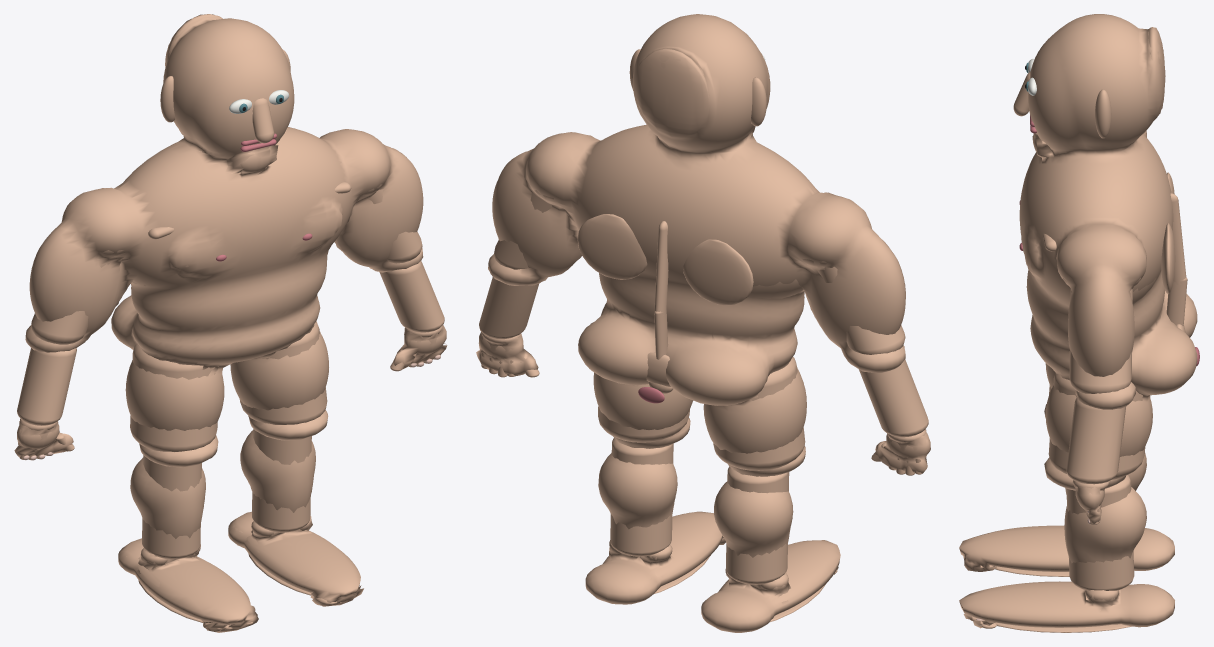
The model's file is body-baby-weiblich-v2.glb.
3 views of the same model, side by side, from view 1: azimuth 30°, elevation 25°; view 2: azimuth 150°, elevation 25°; view 3: azimuth 270°, elevation 25° (orthographic). The views are drawn at different scales.
Parts seen in each view (by area): view 1: zone__visual-surface-body-baby-weiblich, zone__surface-forearm-left, zone__surface-thigh-left, zone__surface-forearm-right, zone__surface-lower-leg-right, zone__surface-lower-leg-left, zone__surface-thigh-right, zone__surface-upper-arm-left, zone__surface-upper-arm-right, zone__surface-nose; view 2: zone__visual-surface-body-baby-weiblich, zone__surface-scapula-left, zone__surface-scapula-right, zone__surface-forearm-left, zone__surface-lower-leg-right, zone__surface-lower-leg-left, zone__surface-forearm-right, zone__surface-thigh-left, zone__surface-upper-arm-left, zone__surface-thigh-right, zone__surface-thoracic-spine, zone__surface-upper-arm-right (+2 smaller); view 3: zone__visual-surface-body-baby-weiblich, zone__surface-forearm-right, zone__surface-lower-leg-right, zone__surface-upper-arm-right, zone__surface-thigh-right, zone__surface-thoracic-spine, zone__surface-scapula-right, zone__surface-lumbar-spine, zone__surface-sole-right, zone__surface-ear-right, zone__surface-nose, zone__surface-sole-left.
Boxes of the visible parts, <box> form: zone__visual-surface-body-baby-weiblich: <box>14,14,447,632</box>; zone__surface-forearm-left: <box>17,348,76,425</box>; zone__surface-thigh-left: <box>130,344,218,451</box>; zone__surface-forearm-right: <box>379,261,444,332</box>; zone__surface-lower-leg-right: <box>252,429,311,532</box>; zone__surface-lower-leg-left: <box>142,455,201,559</box>; zone__surface-thigh-right: <box>239,321,327,424</box>; zone__surface-upper-arm-left: <box>31,259,110,344</box>; zone__surface-upper-arm-right: <box>368,189,422,263</box>; zone__surface-nose: <box>252,98,274,143</box>; zone__visual-surface-body-baby-weiblich: <box>476,14,930,632</box>; zone__surface-scapula-left: <box>683,239,753,305</box>; zone__surface-scapula-right: <box>577,214,647,279</box>; zone__surface-forearm-left: <box>859,359,928,437</box>; zone__surface-lower-leg-right: <box>610,438,673,556</box>; zone__surface-lower-leg-left: <box>726,466,789,584</box>; zone__surface-forearm-right: <box>479,277,539,339</box>; zone__surface-thigh-left: <box>713,357,805,470</box>; zone__surface-upper-arm-left: <box>817,266,905,354</box>; zone__surface-thigh-right: <box>598,406,689,442</box>; zone__surface-thoracic-spine: <box>654,221,668,315</box>; zone__surface-upper-arm-right: <box>493,193,552,269</box>; zone__visual-surface-body-baby-weiblich: <box>959,14,1197,628</box>; zone__surface-forearm-right: <box>1066,397,1126,484</box>; zone__surface-lower-leg-right: <box>1066,475,1134,590</box>; zone__surface-upper-arm-right: <box>1069,288,1132,393</box>; zone__surface-thigh-right: <box>1048,372,1145,479</box>; zone__surface-thoracic-spine: <box>1170,193,1186,284</box>; zone__surface-scapula-right: <box>1161,223,1175,293</box>; zone__surface-lumbar-spine: <box>1166,277,1187,325</box>; zone__surface-sole-right: <box>995,622,1132,632</box>; zone__surface-ear-right: <box>1095,89,1111,138</box>; zone__surface-nose: <box>1013,71,1030,116</box>; zone__surface-sole-left: <box>995,566,1069,576</box>.
Size of the model in its own units: 0.558 by 0.6845 by 0.2598.
